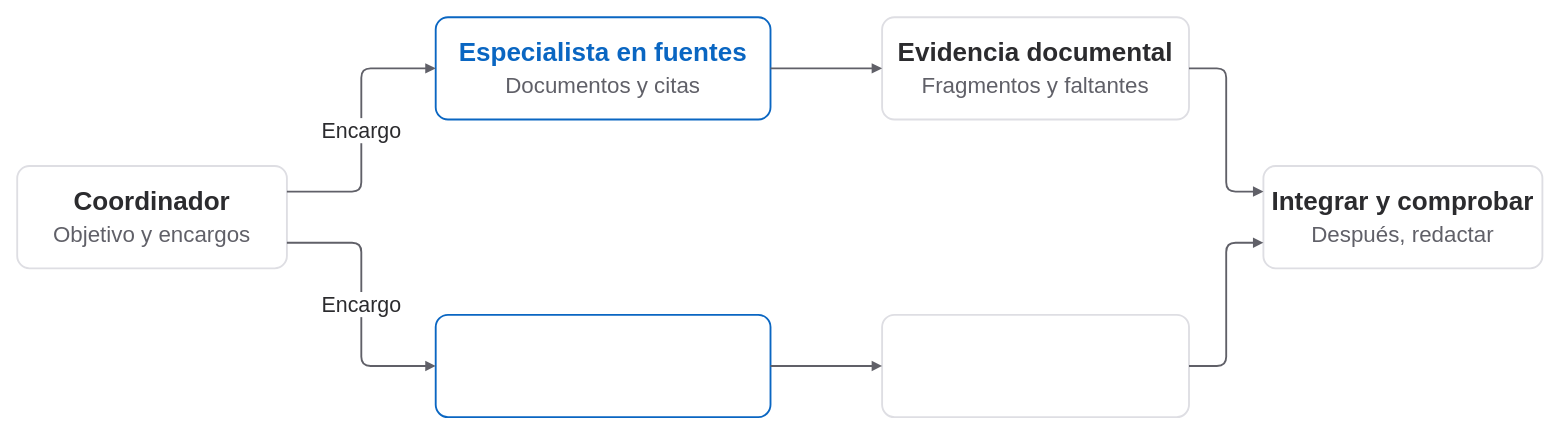
The diagram is 1559 pixels wide and 433 high, and some of its shapes have lost their labels. The shapes that lost their labels are listed below. From the top down, each one's centre as x and y in pixels, then its label:
At point (602, 365): "Especialista en cifras Tabla y cálculos".
At point (1035, 365): "Evidencia numérica Resultados verificables".
